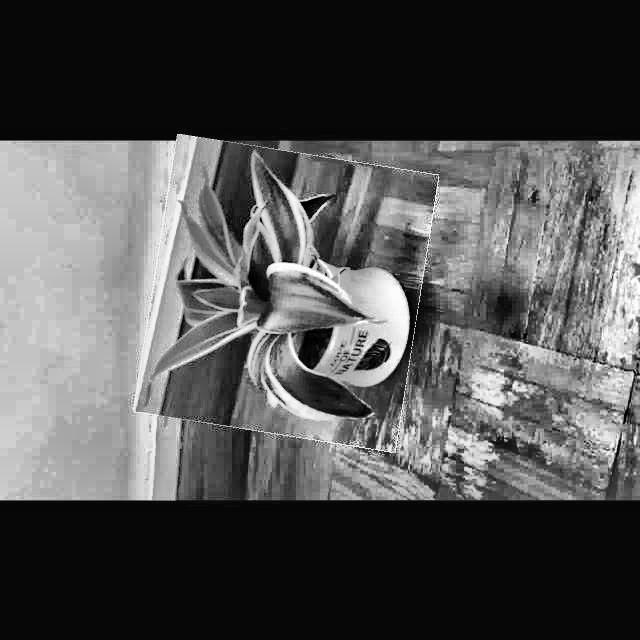plants: (143, 142, 430, 442)
